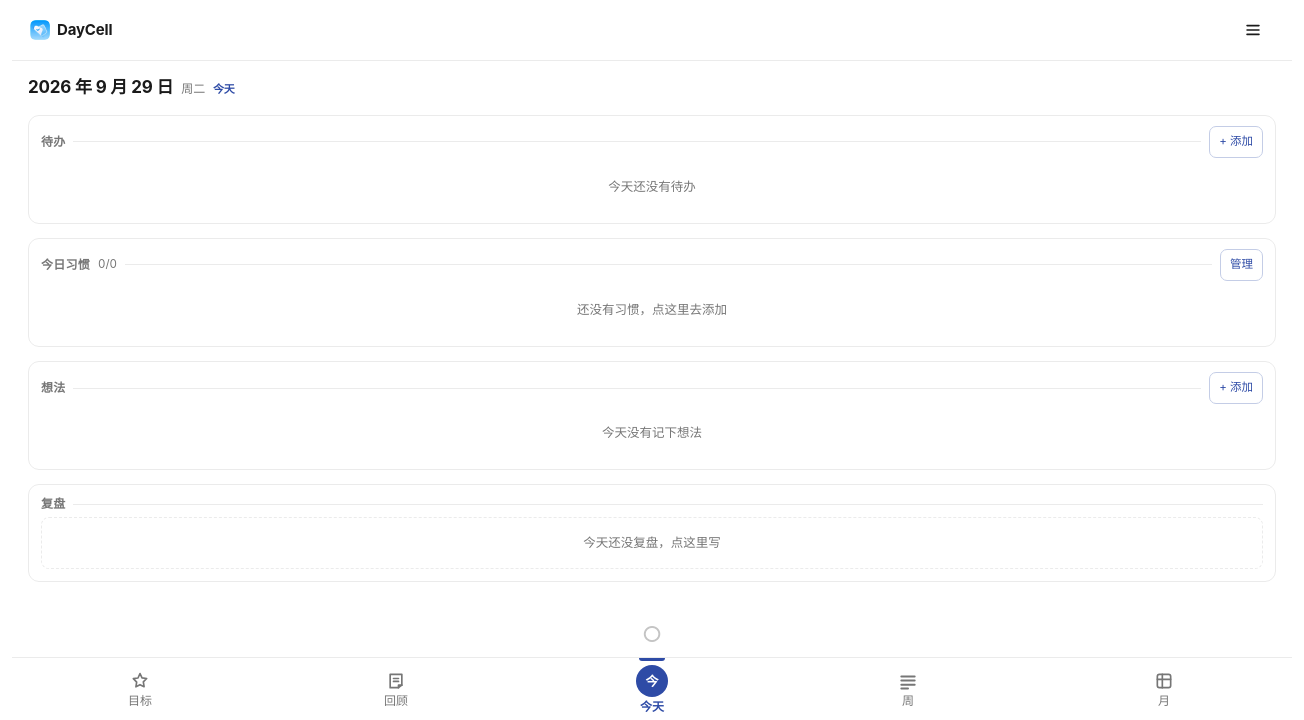
Test: App 冒烟 › 默认落地今天的日视图；空白日不自动展开，手动点「+ 添加」才弹出（v7.2）
Check: the text "今天" in the row of "29" is shown, box [213,82,235,96]
Check: the tab "今 今天" is shown, box [524,658,780,719]
Click the button with aria-label "添加待办".
click(1236, 142)  # box [1209,126,1263,158]
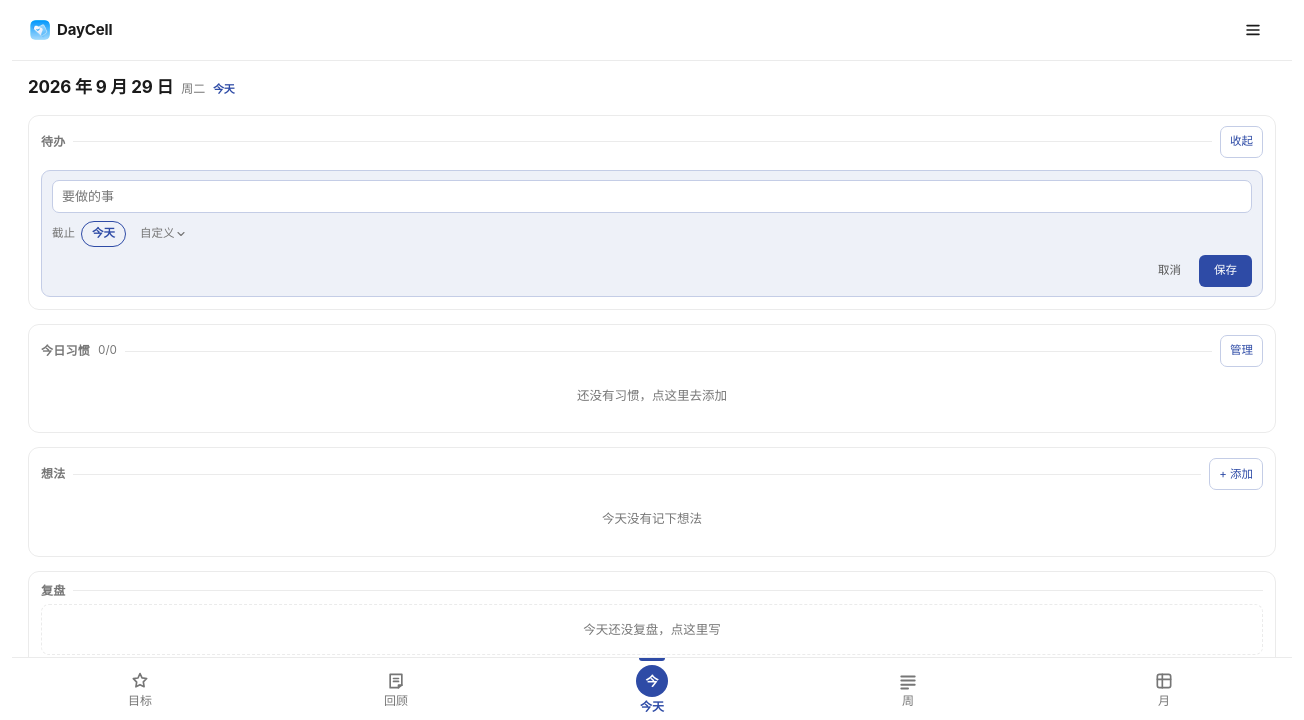
Check: the field named "新待办" is shown, box [52,180,1252,213]
